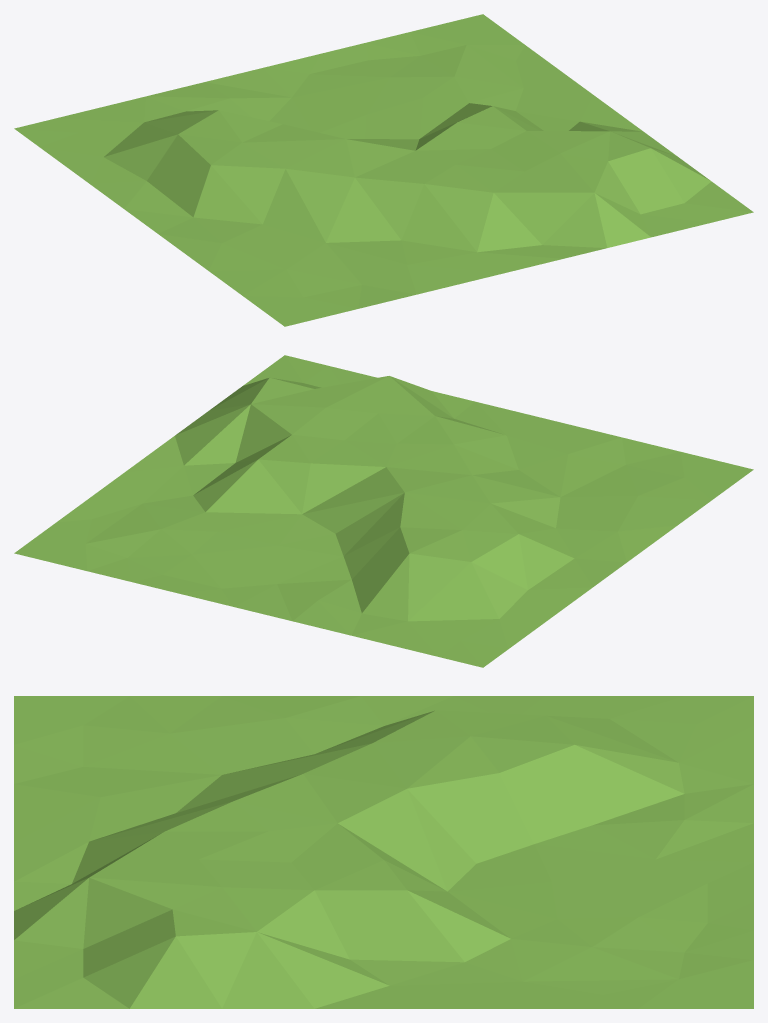
The model's file is MT_Terrain_S_c_10.fbx.
The picture shows the model from 3 angles, top to bottom: view 1: azimuth 30°, elevation 25°; view 2: azimuth 150°, elevation 25°; view 3: azimuth 270°, elevation 25°; orthographic projection. The views are drawn at different scales.
Visible parts, largest first — view 1: MT_Terrain_S_c_10; view 2: MT_Terrain_S_c_10; view 3: MT_Terrain_S_c_10.
Boxes of the visible parts, x1,y1,x2,y2 form: MT_Terrain_S_c_10: (14, 14, 753, 326); MT_Terrain_S_c_10: (14, 355, 753, 667); MT_Terrain_S_c_10: (14, 696, 753, 1008).
Bounding box in the file's own units: 2500 × 173 × 2500.
